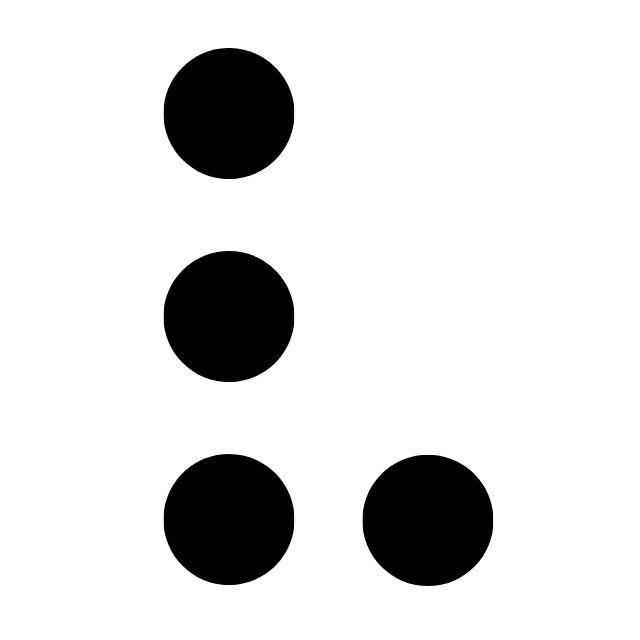v: (162, 48, 493, 586)
